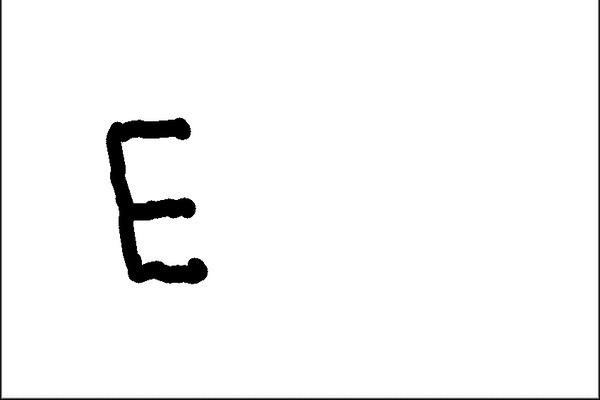E: (100, 115, 220, 289)
